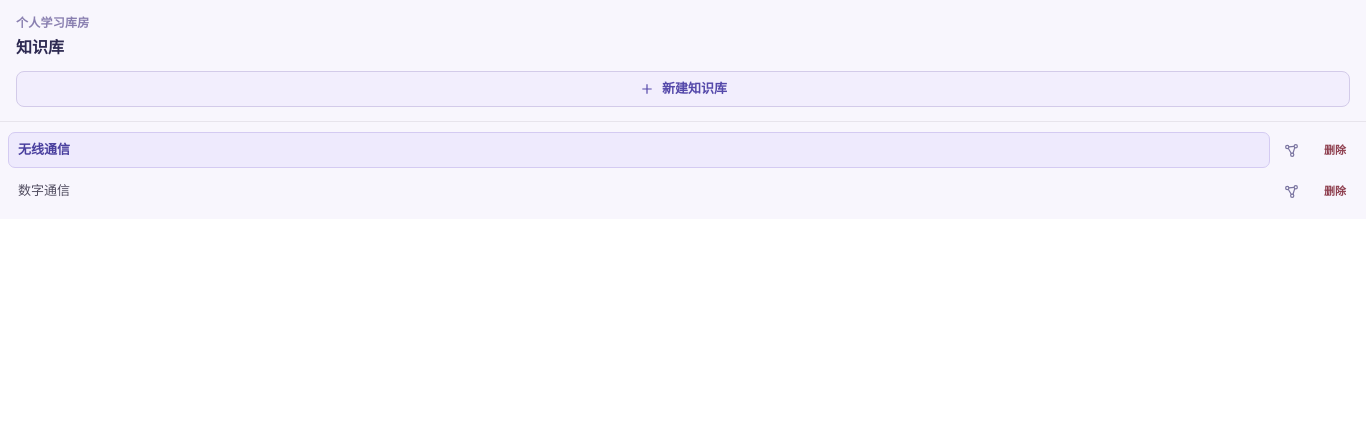
KnowledgeLibrarySidebar › keeps the confirmation open and explains a running-task conflict
Click the button with aria-label "删除数字通信".
click(1335, 191)  # box [1312,173,1358,209]
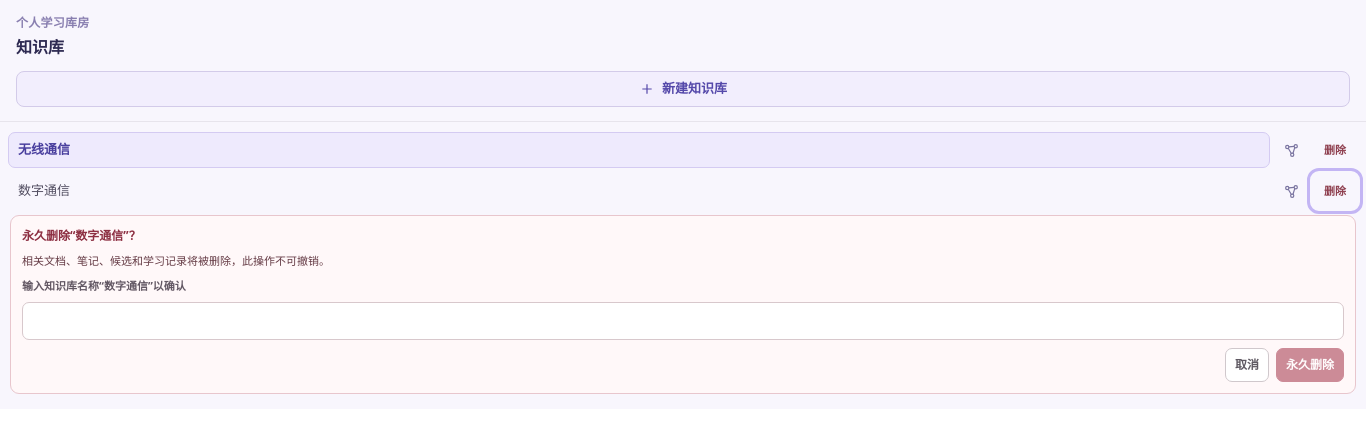
Type "数字通信" into the field named "输入知识库名称数字通信以确认".
click(683, 321); type("数字通信")  # box [22,302,1344,340]
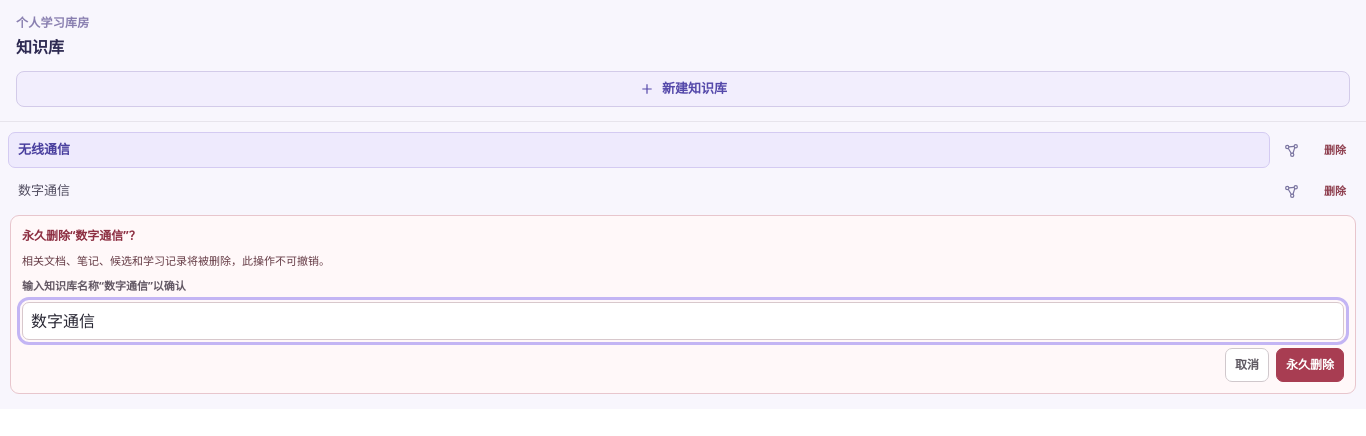
Click the button with aria-label "永久删除数字通信".
click(1310, 365)  # box [1276,348,1344,382]
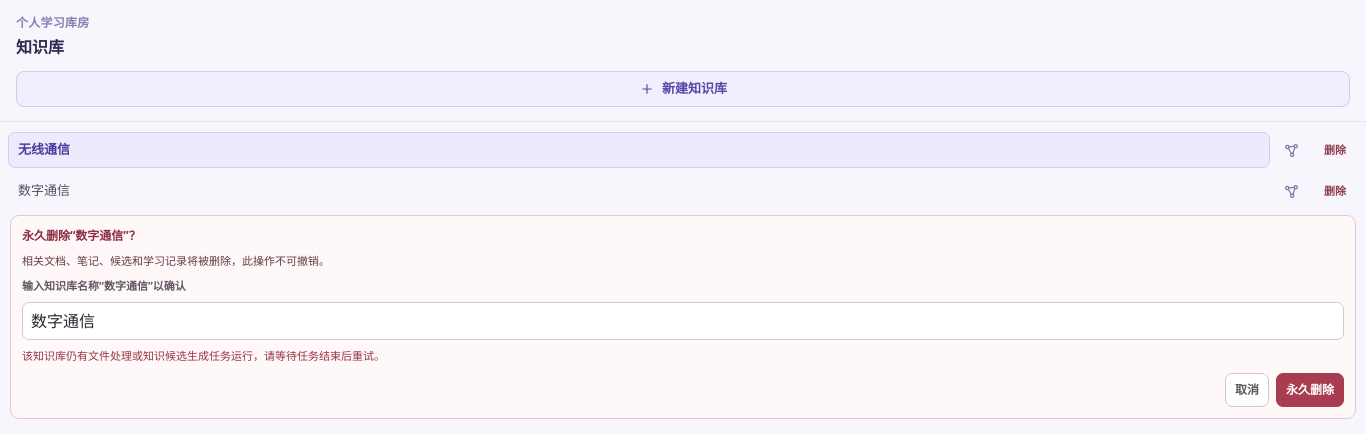
Expected: the button with aria-label "选择数字通信" is shown, [8,173,1270,209]
Result: the form named "确认删除数字通信" is shown at [10,215,1356,418]
Result: the message shows "仍有文件处理或知识候选生成任务运行" at [22,348,385,363]
